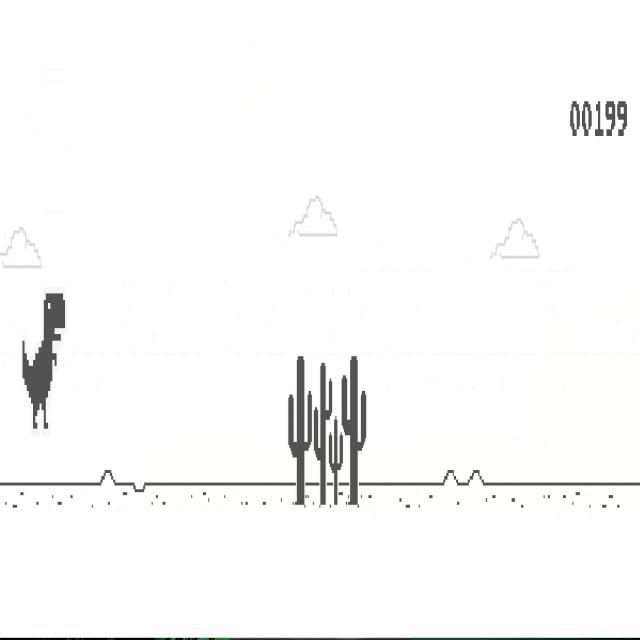cacto: (341, 355, 367, 507), (288, 355, 312, 507), (313, 361, 333, 507), (328, 416, 344, 507)
dino: (21, 291, 66, 431)
